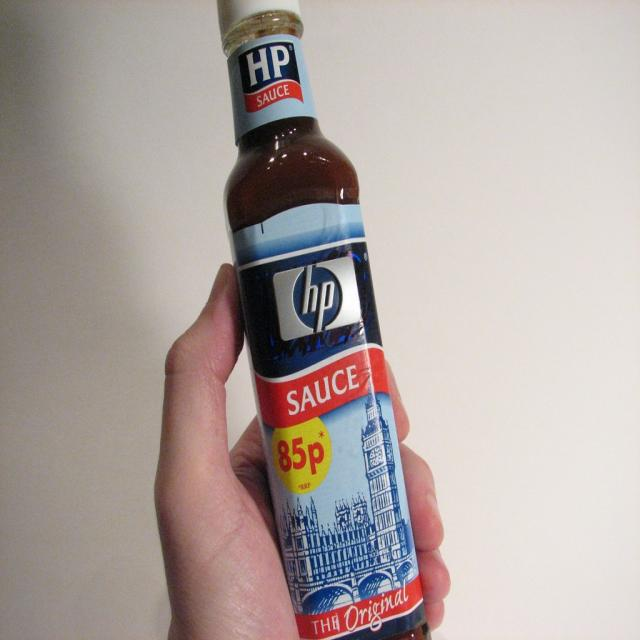HP: (274, 256, 367, 344)
